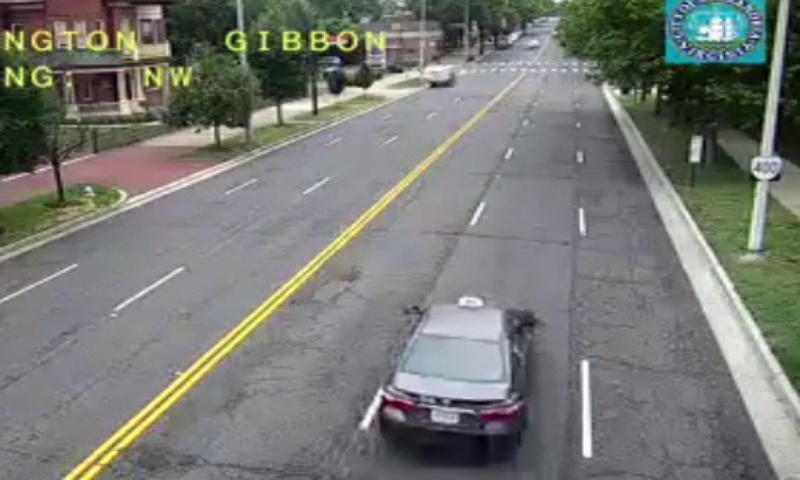car: (379, 298, 530, 440)
